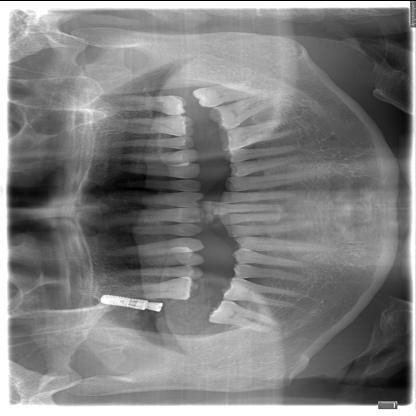ITI: (98, 291, 148, 312)
